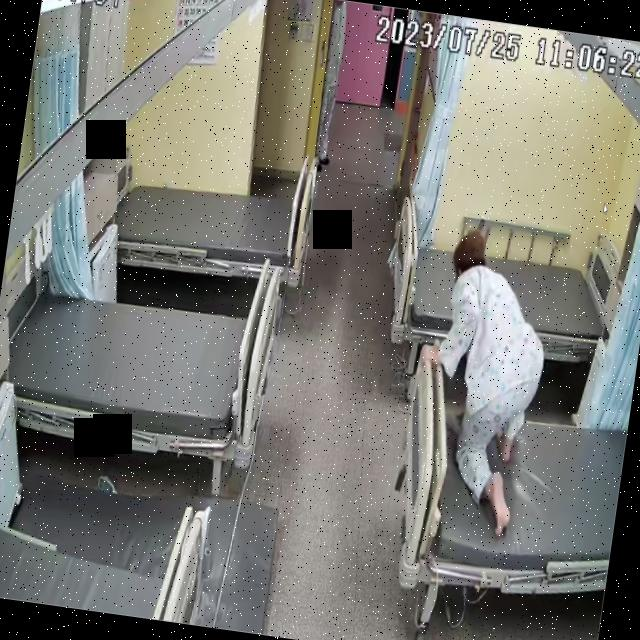bed: (384, 338, 636, 611), (0, 275, 278, 463), (380, 223, 628, 373), (111, 164, 312, 287)
danger: (402, 226, 559, 524)
patient: (400, 227, 562, 534)
